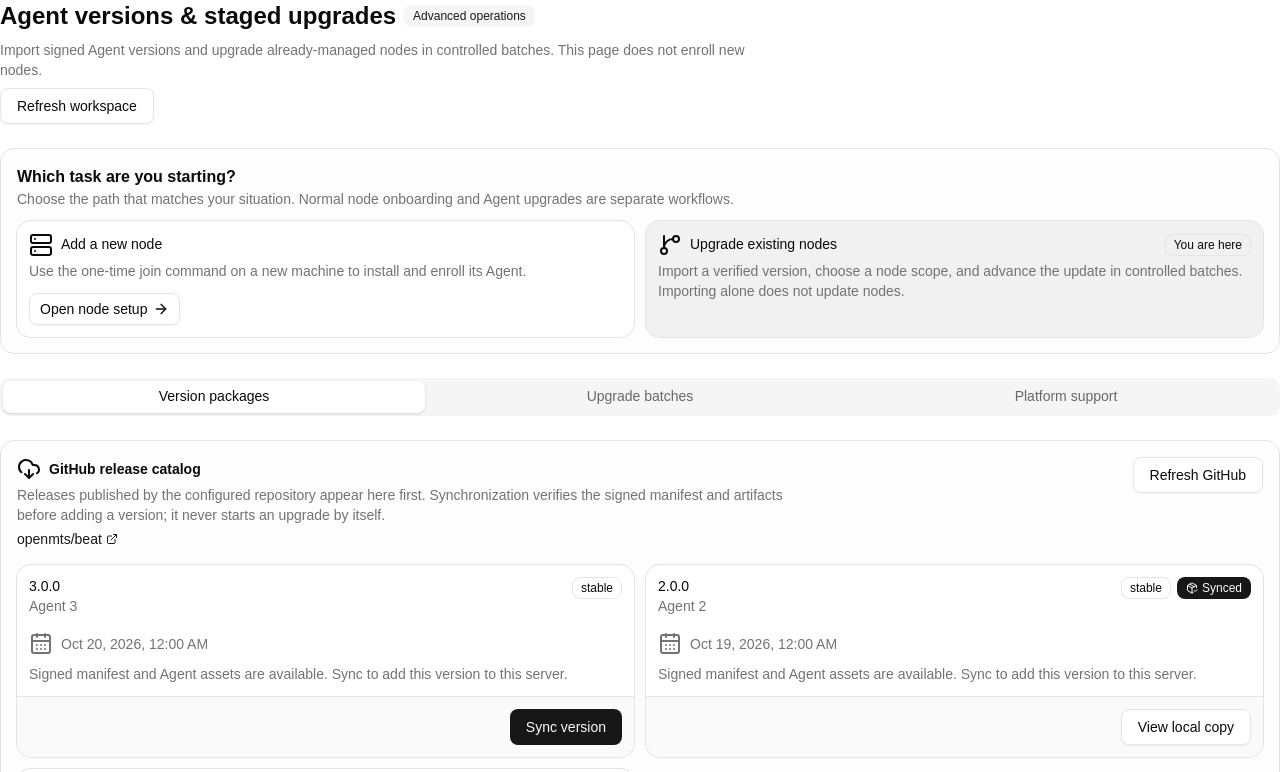
Test: Agent release workspace › prioritizes the GitHub catalog and syncs an unsigned local version only after confirmation
Expected: the text "Synced" is shown, x1=1177 y1=577 x2=1251 y2=599
Expected: the button "View local copy" is shown, x1=1121 y1=709 x2=1251 y2=745
Click the button "Sync version": (566, 727) x1=510 y1=709 x2=622 y2=745
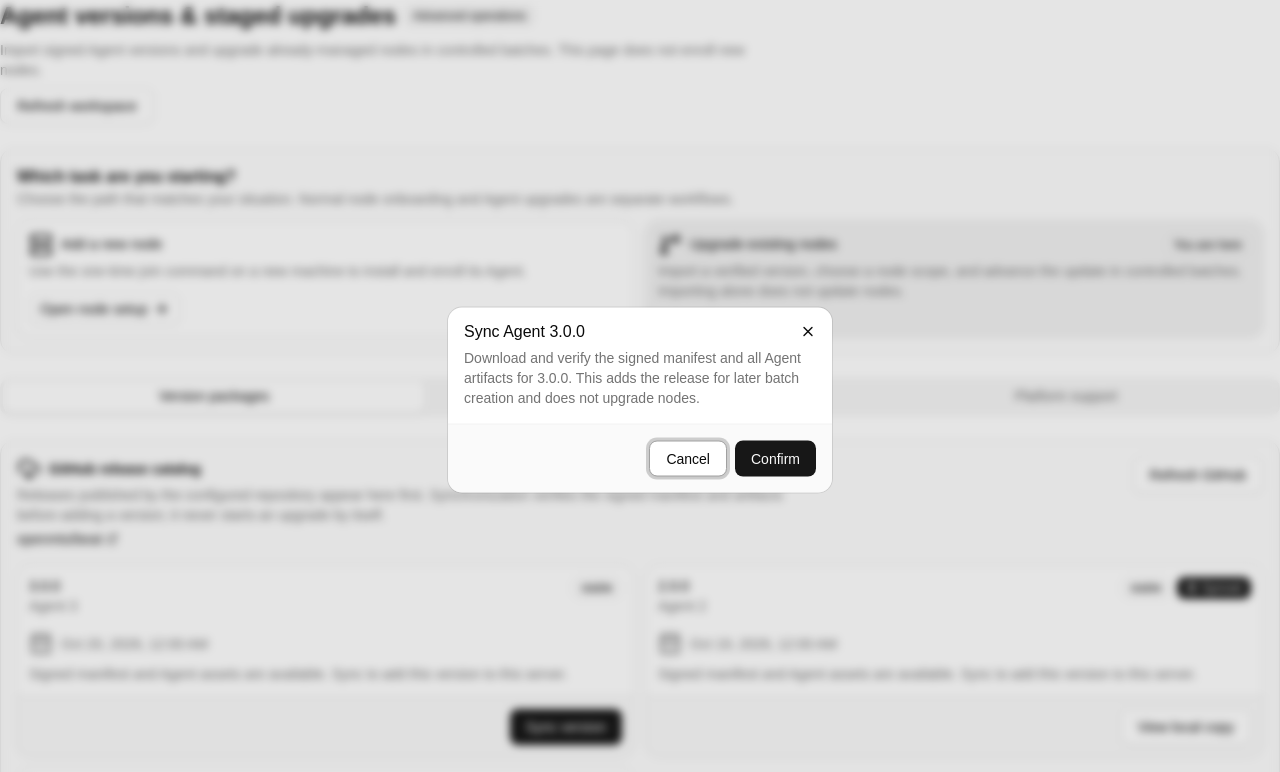
Click the button "Confirm": (776, 458) x1=735 y1=440 x2=816 y2=476
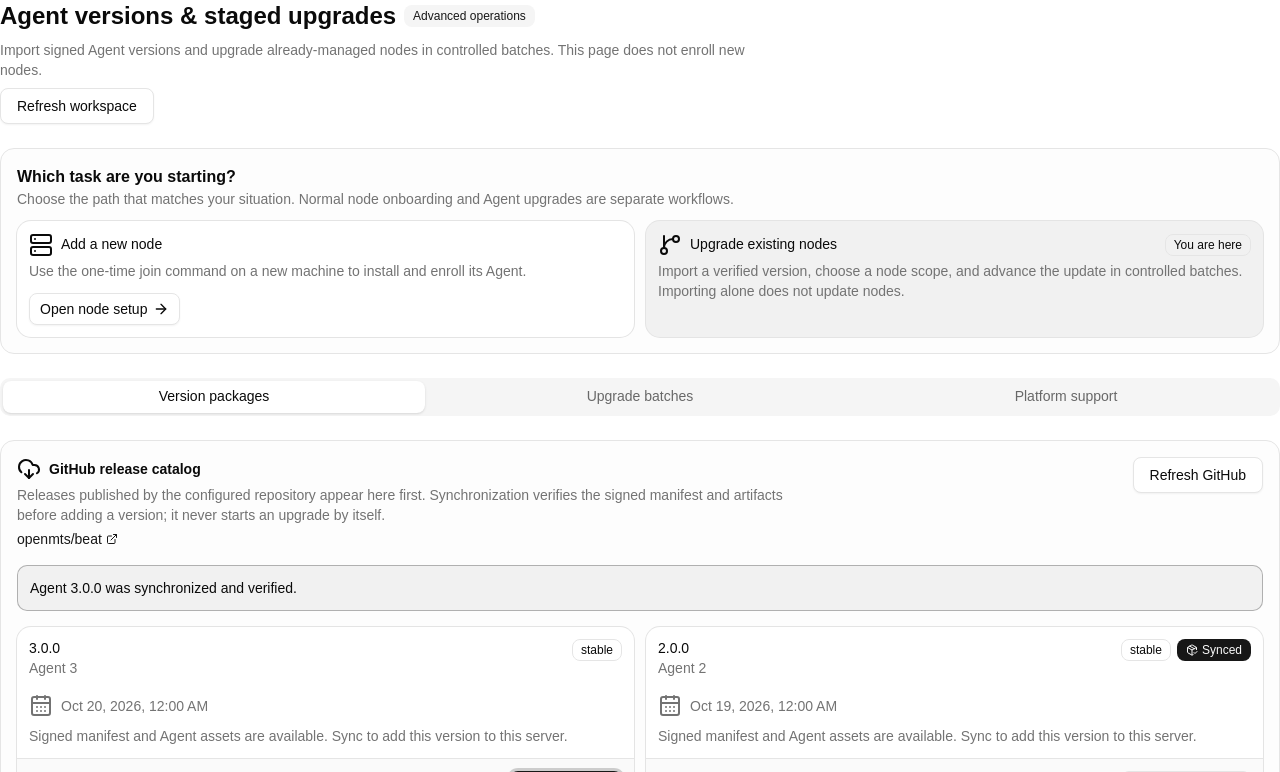
Expected: the text "Agent 3.0.0 was synchronized and verified." is shown, x1=17 y1=565 x2=1263 y2=611
